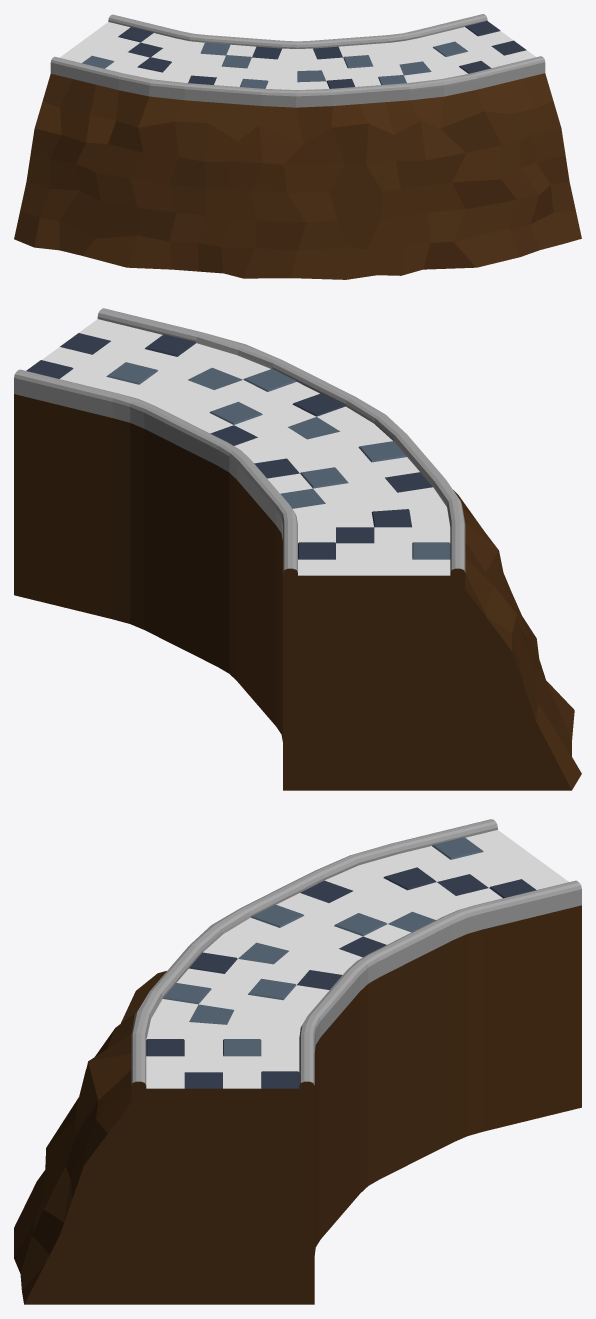
The model's file is road_curveR.fbx.
3 views of the same model, one above another, from view 1: azimuth 30°, elevation 25°; view 2: azimuth 150°, elevation 25°; view 3: azimuth 270°, elevation 25° (orthographic). The views are drawn at different scales.
Parts seen in each view (by area): view 1: road_line_curveR; view 2: road_line_curveR; view 3: road_line_curveR.
Boxes of the visible parts, bbox=[...] form: road_line_curveR: bbox=[14, 14, 581, 279]; road_line_curveR: bbox=[14, 308, 581, 790]; road_line_curveR: bbox=[14, 819, 581, 1304].
Size of the model in its own units: 939 by 323 by 743.
